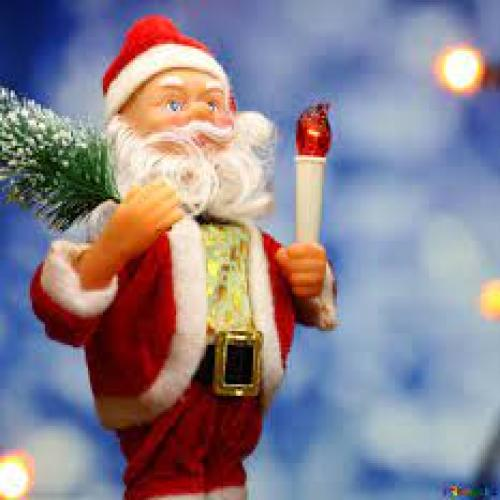Santa: (28, 14, 341, 498)
